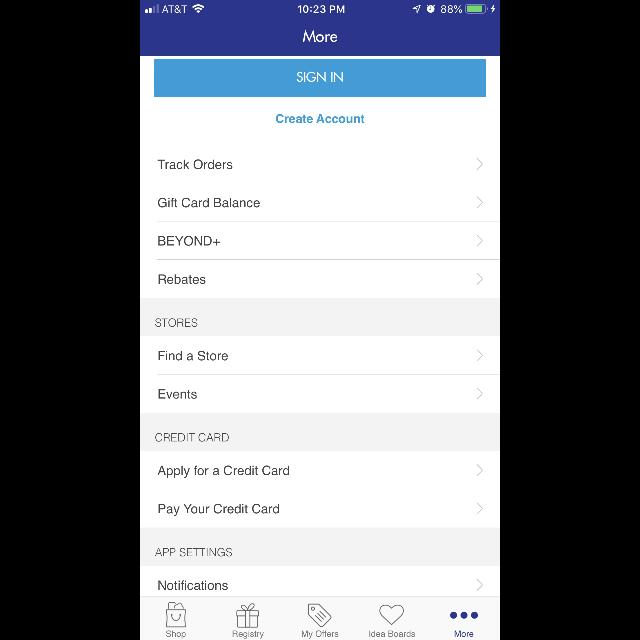icon: (308, 604, 332, 628), (237, 604, 260, 628), (166, 602, 186, 628), (380, 605, 404, 625), (450, 612, 478, 618), (477, 579, 483, 591), (477, 503, 483, 515), (477, 464, 483, 476), (476, 388, 482, 400), (476, 350, 482, 362), (476, 273, 482, 285), (477, 235, 483, 247), (477, 196, 483, 208), (477, 158, 483, 170)
text: (158, 466, 290, 478), (159, 504, 279, 516), (158, 198, 260, 208), (276, 115, 364, 124), (158, 159, 232, 169), (156, 432, 228, 442), (158, 580, 228, 590), (158, 351, 228, 361), (158, 236, 220, 246), (156, 548, 232, 556), (158, 274, 206, 284), (156, 318, 198, 328), (303, 30, 337, 42), (159, 389, 197, 399), (369, 630, 415, 638), (302, 631, 338, 639), (232, 631, 264, 639), (166, 630, 186, 638), (454, 630, 474, 638)
textbutton: (154, 59, 486, 97)
uppertaskbar: (140, 1, 500, 15)
